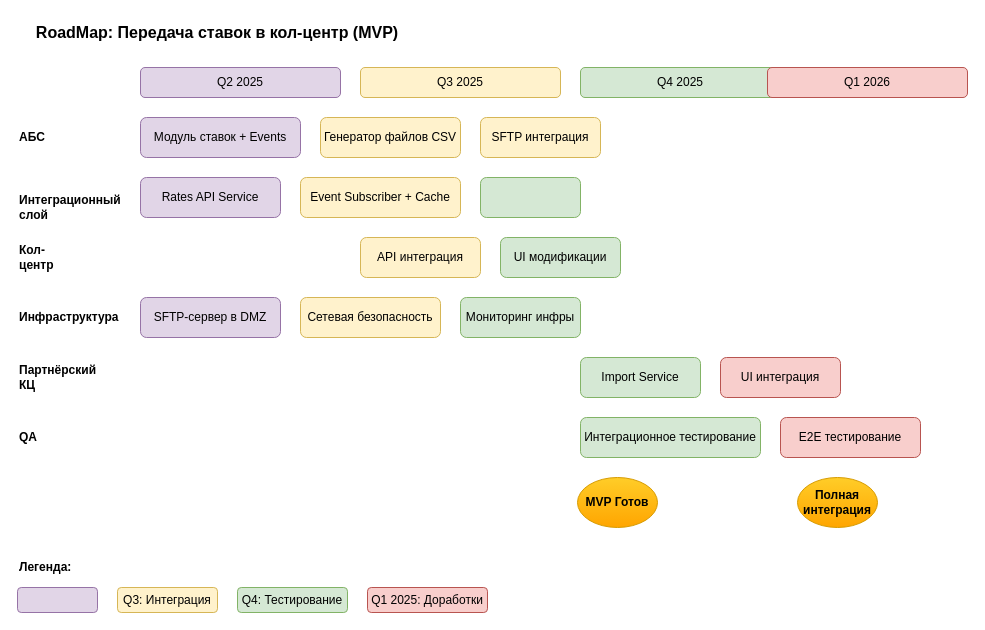
Some shapes in this 985 by 630 pixel diagram are drawn without their labels. The centre of each missing label's shape, as x and y in pixels:
Q2: Основа: (x=57, y=599)
Мониторинг: (x=530, y=197)
